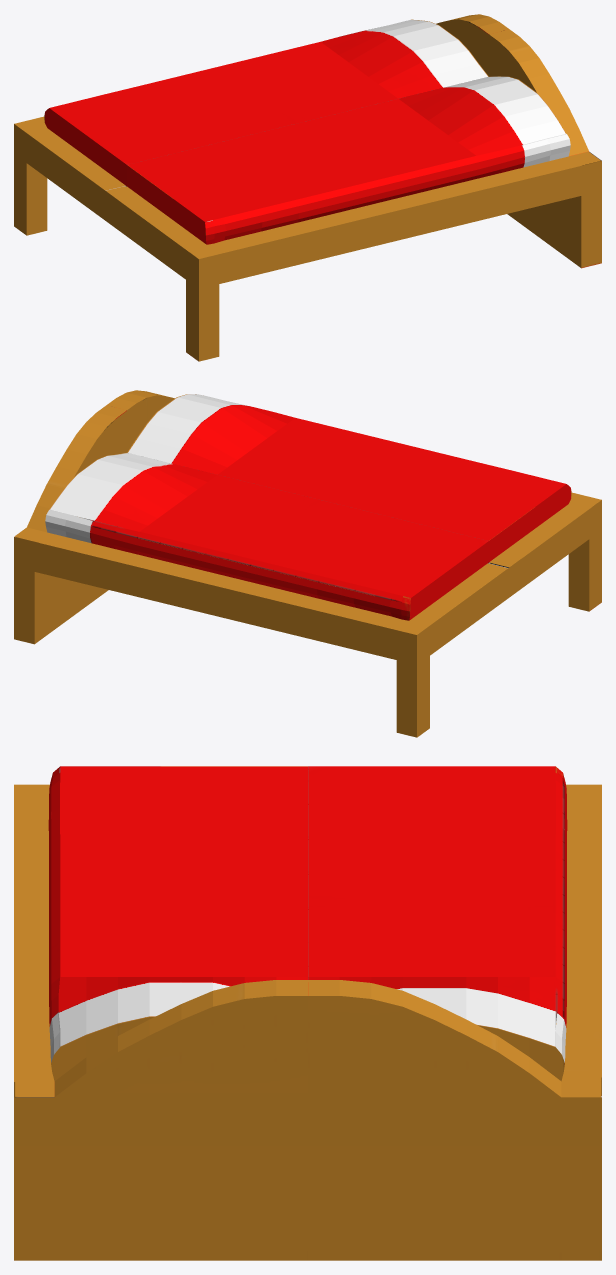
File: bed.fbx
3 renders of one model, top to bottom at view 1: azimuth 30°, elevation 25°; view 2: azimuth 150°, elevation 25°; view 3: azimuth 270°, elevation 25°, orthographic. The views are drawn at different scales.
Parts seen in each view (by area): view 1: Cube; view 2: Cube; view 3: Cube.
Boxes of the visible parts, box(x1,y1,x2,y2) form: Cube: box(14, 14, 601, 361); Cube: box(14, 390, 601, 737); Cube: box(14, 766, 601, 1260).
Bounding box in the file's own units: 5.9 × 2.33 × 4.68.
